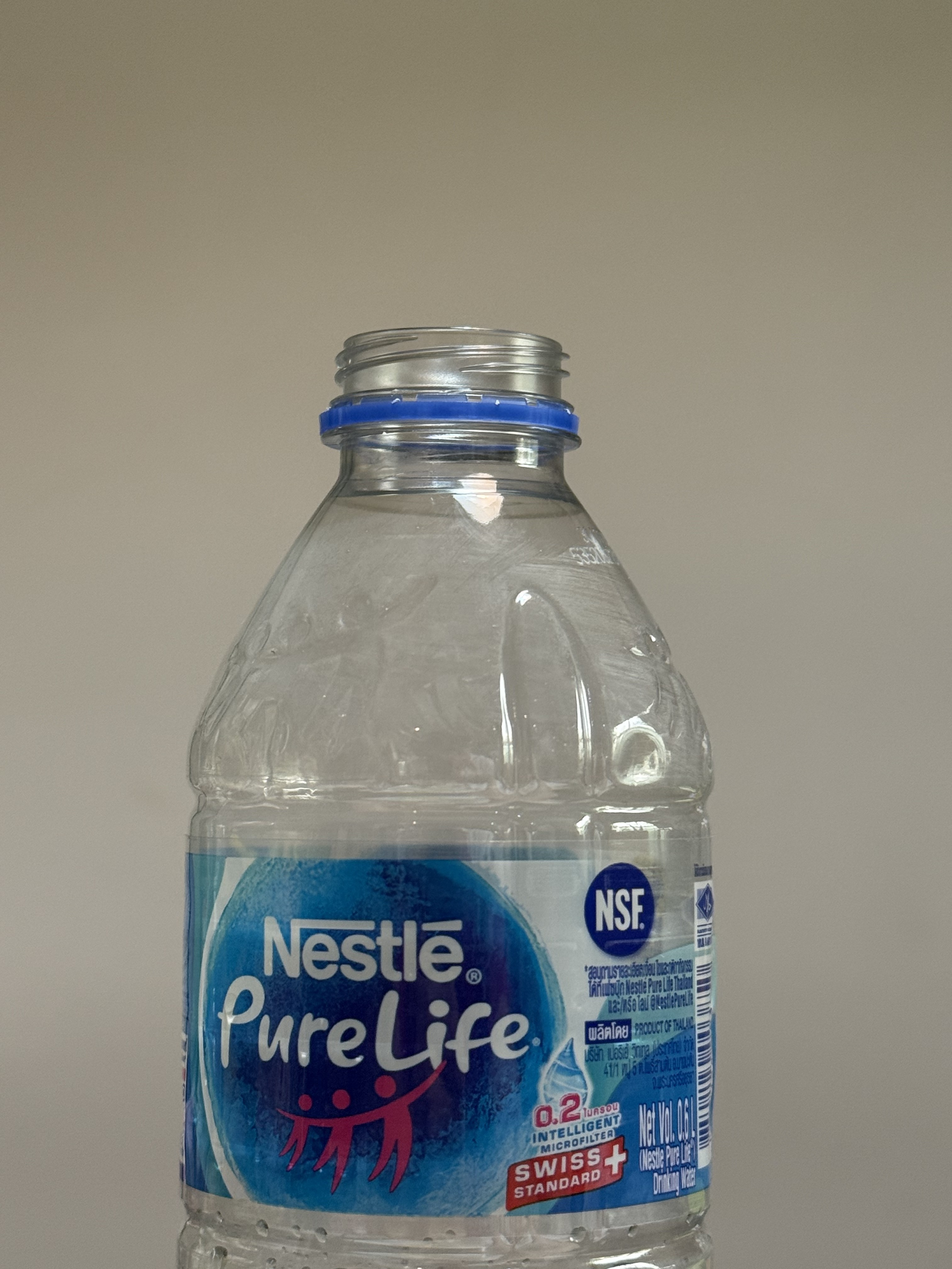no_cap: (317, 322, 581, 441)
